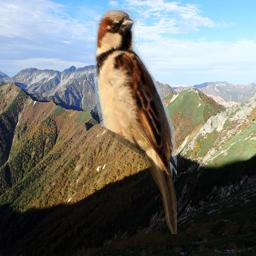Swallow: (93, 9, 177, 234)
